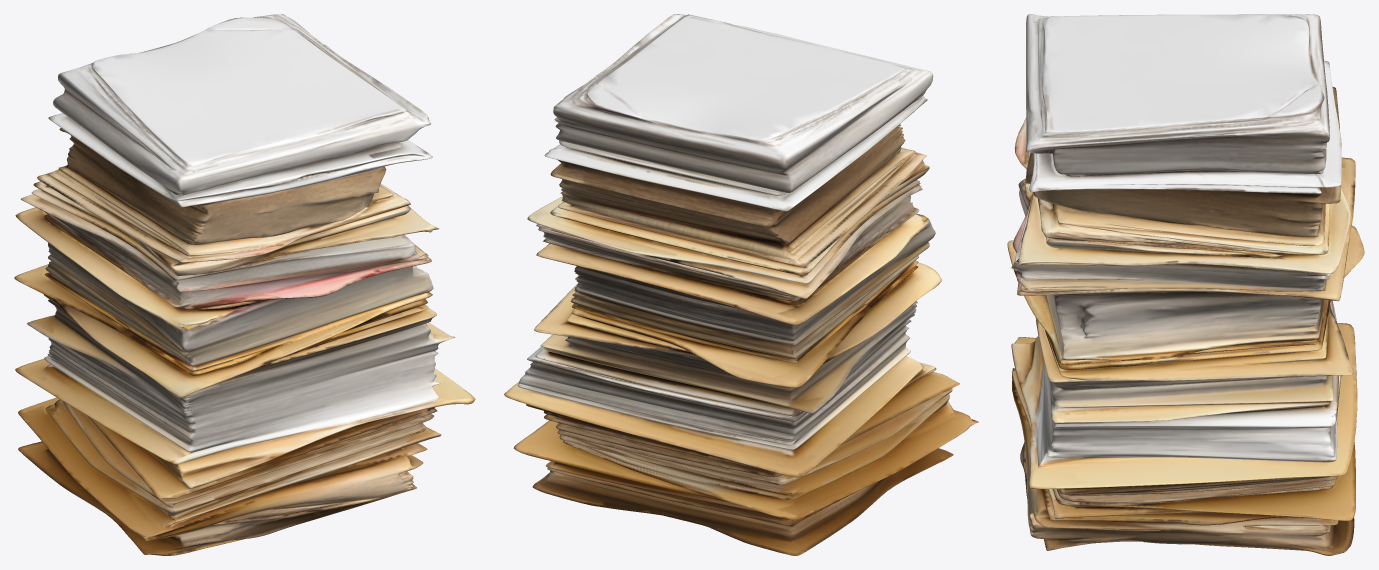
File: ai.maker_present_a_stack_of_old_papers.glb
The picture shows the model from 3 angles, left to right: view 1: azimuth 30°, elevation 25°; view 2: azimuth 150°, elevation 25°; view 3: azimuth 270°, elevation 25°; orthographic projection. The views are drawn at different scales.
Parts seen in each view (by area): view 1: Mesh_0_Material_0; view 2: Mesh_0_Material_0; view 3: Mesh_0_Material_0.
Boxes of the visible parts, left/top/right/bottom form: Mesh_0_Material_0: left=14, top=14, right=475, bottom=555; Mesh_0_Material_0: left=504, top=14, right=978, bottom=555; Mesh_0_Material_0: left=1007, top=14, right=1364, bottom=555.
Size of the model in its own units: 0.7515 by 0.8305 by 0.6314.
1 material, 1 textured.
